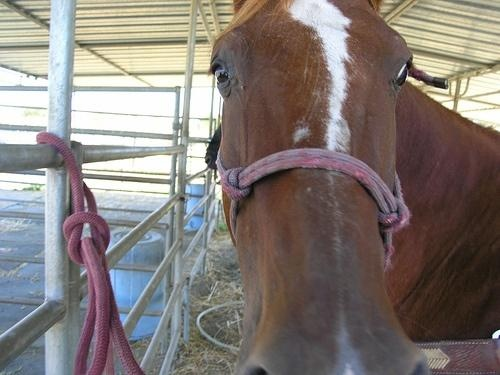horse: (205, 1, 500, 375)
